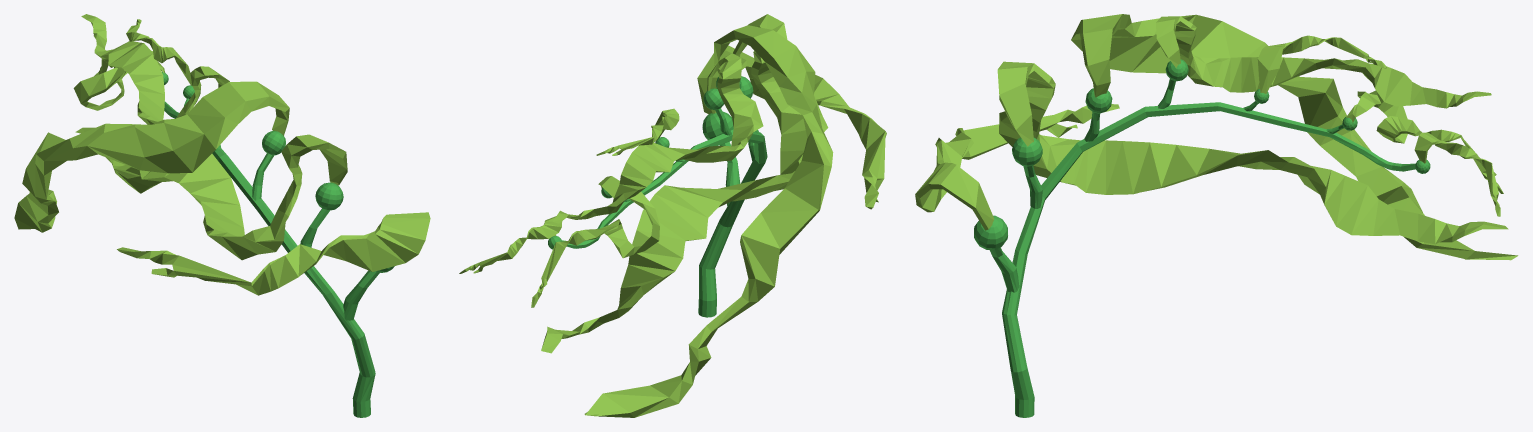
Rendered from kelp.glb.
The picture shows the model from 3 angles, left to right: view 1: azimuth 30°, elevation 25°; view 2: azimuth 150°, elevation 25°; view 3: azimuth 270°, elevation 25°; orthographic projection. The views are drawn at different scales.
Parts seen in each view (by area): view 1: group613521845, group490092115; view 2: group613521845, group490092115; view 3: group613521845, group490092115.
Part boxes in pixels (box(x1,y1,x2,y2)): group613521845: box(14, 14, 430, 295); group490092115: box(162, 72, 394, 417); group613521845: box(459, 14, 886, 417); group490092115: box(548, 76, 767, 317); group613521845: box(915, 14, 1518, 260); group490092115: box(974, 59, 1430, 417).
Bounding box in the file's own units: 0.8115 × 1 × 1.55.
